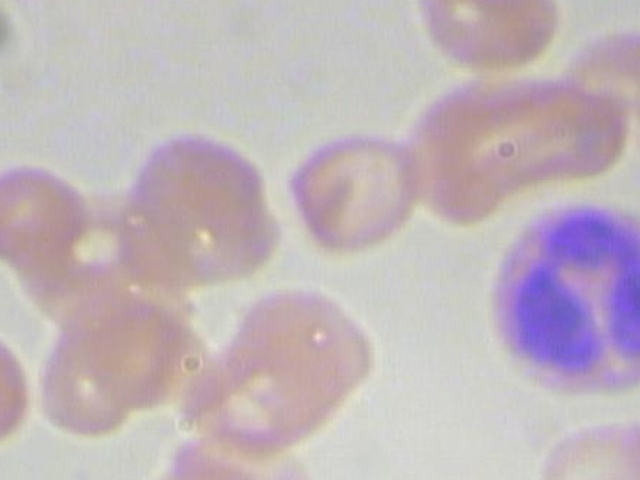RBC: (104, 123, 280, 284), (221, 278, 376, 421), (277, 123, 429, 253), (411, 0, 564, 79), (0, 160, 90, 257), (527, 415, 640, 480), (0, 305, 37, 448), (122, 451, 263, 480)
WBC: (465, 195, 640, 407)
